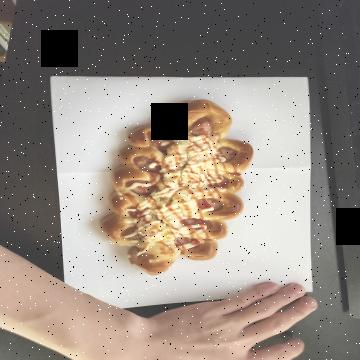pizza_bread: (94, 96, 272, 254)
